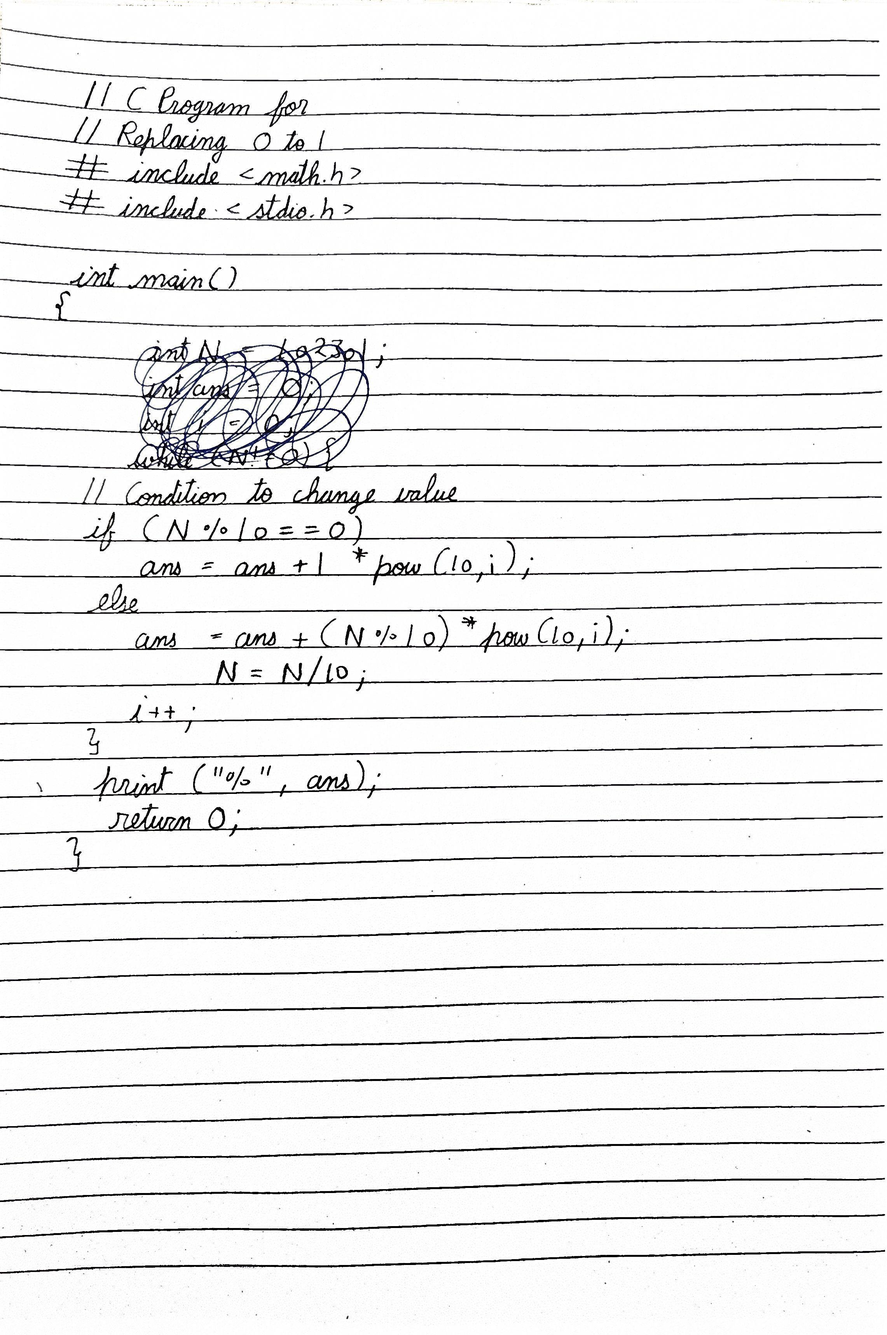cuttings: (129, 335, 374, 473)
